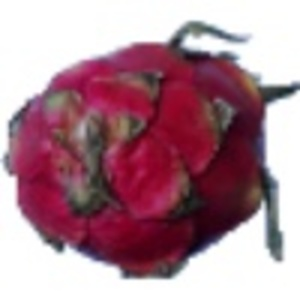pitaia: (1, 20, 300, 281)
